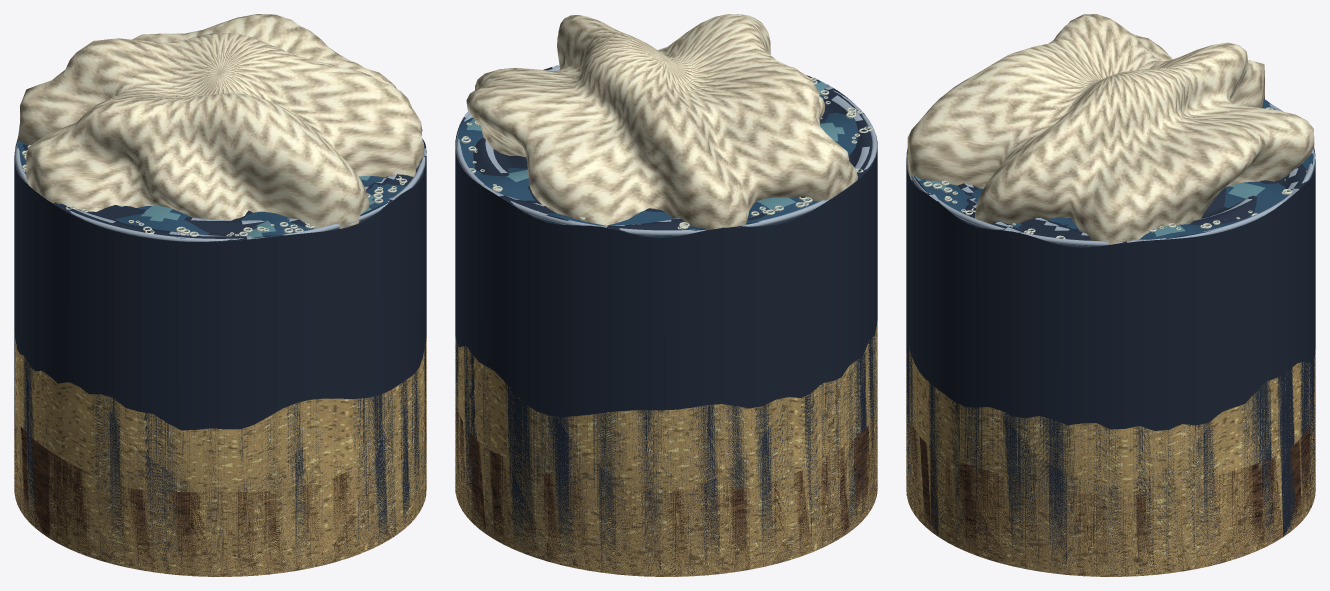
The model's file is contents.glb.
3 renders of one model, left to right at view 1: azimuth 30°, elevation 25°; view 2: azimuth 150°, elevation 25°; view 3: azimuth 270°, elevation 25°, orthographic. The views are drawn at different scales.
Parts seen in each view (by area): view 1: moon_side, cloth_2, sand_col, soil_col, moon_top, water_top, moon_edge, foam; view 2: moon_side, sand_col, cloth_2, soil_col, water_top, moon_top, moon_edge, foam; view 3: moon_side, cloth_2, sand_col, soil_col, moon_top, water_top, moon_edge, foam.
Boxes of the visible parts, left/top/right/bottom form: moon_side: left=14, top=145, right=426, bottom=576; cloth_2: left=17, top=14, right=424, bottom=228; sand_col: left=14, top=338, right=426, bottom=576; soil_col: left=14, top=411, right=426, bottom=576; moon_top: left=14, top=138, right=426, bottom=241; water_top: left=17, top=141, right=405, bottom=238; moon_edge: left=14, top=138, right=425, bottom=241; foam: left=21, top=145, right=407, bottom=236; moon_side: left=455, top=65, right=877, bottom=576; sand_col: left=455, top=321, right=877, bottom=576; cloth_2: left=466, top=14, right=857, bottom=230; soil_col: left=455, top=406, right=877, bottom=576; water_top: left=457, top=77, right=864, bottom=230; moon_top: left=455, top=65, right=877, bottom=237; moon_edge: left=455, top=67, right=877, bottom=235; foam: left=460, top=77, right=872, bottom=229; moon_side: left=906, top=152, right=1315, bottom=576; cloth_2: left=907, top=14, right=1314, bottom=244; sand_col: left=906, top=348, right=1315, bottom=576; soil_col: left=906, top=413, right=1315, bottom=576; moon_top: left=906, top=100, right=1315, bottom=247; water_top: left=914, top=99, right=1313, bottom=239; moon_edge: left=906, top=103, right=1315, bottom=246; foam: left=923, top=107, right=1306, bottom=240.
Size of the model in its own units: 0.132 by 0.1534 by 0.132.
17 materials, 7 textured.
